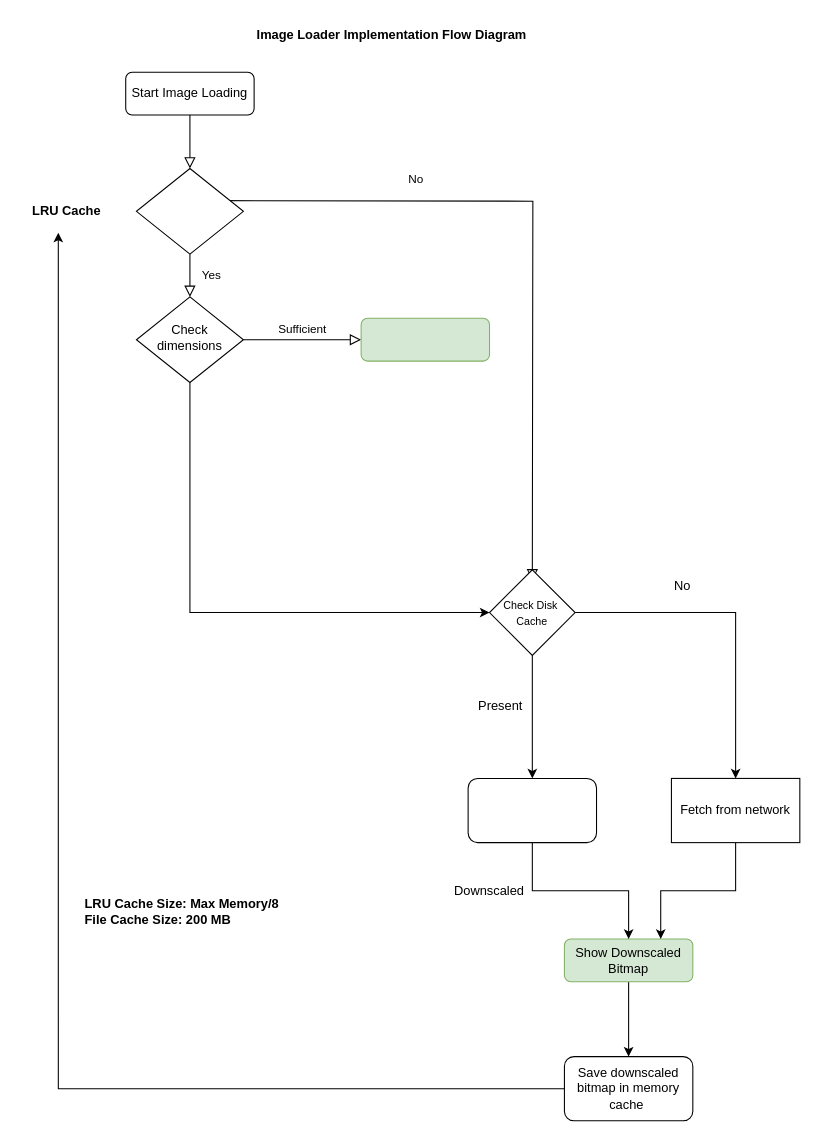
This 819x1140 diagram has some shape labels left out. The centre of each missing label's shape, as x and y in pixels:
Check Memory Cache: (x=189, y=210)
Retrieve Bitmap: (x=532, y=810)
Show In memory bitmap: (x=425, y=339)
